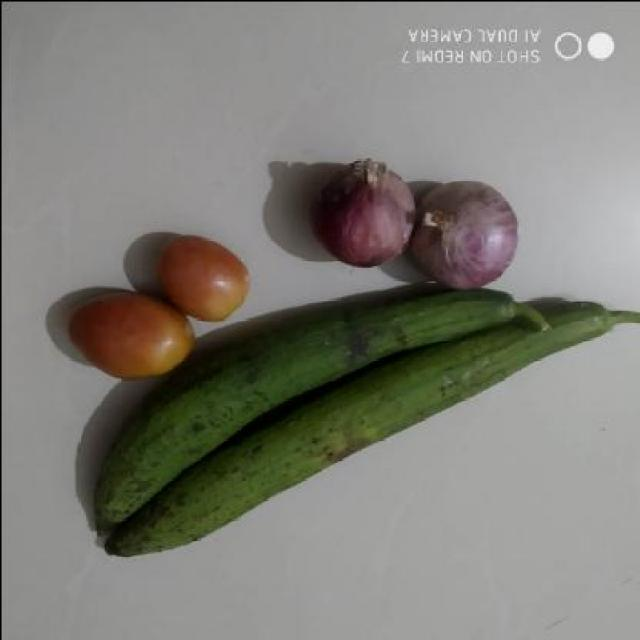Onion: (408, 175, 522, 292), (308, 153, 410, 270)
Sponge Gourd: (71, 378, 640, 568)
Tomato: (61, 287, 194, 378), (157, 231, 245, 320)
